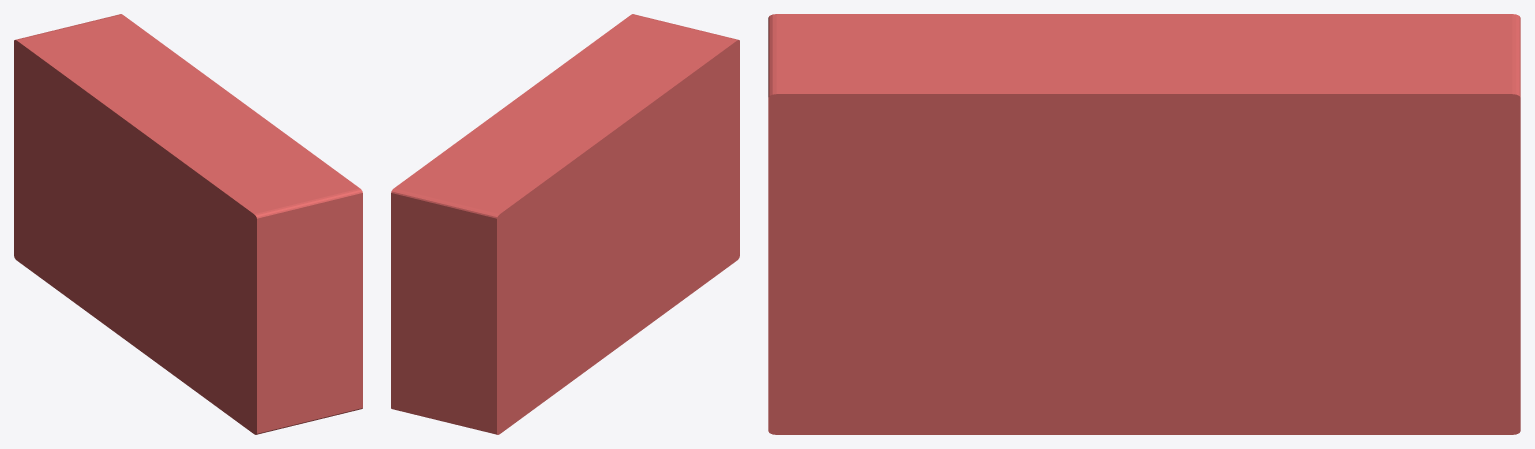
Rendered from Municion.fbx.
3 views of the same model, side by side, from view 1: azimuth 30°, elevation 25°; view 2: azimuth 150°, elevation 25°; view 3: azimuth 270°, elevation 25° (orthographic). The views are drawn at different scales.
Visible parts, largest first — view 1: MunicionRevolver; view 2: MunicionRevolver; view 3: MunicionRevolver.
Boxes of the visible parts, left/top/right/bottom form: MunicionRevolver: left=14, top=14, right=362, bottom=434; MunicionRevolver: left=391, top=14, right=739, bottom=434; MunicionRevolver: left=768, top=14, right=1520, bottom=434.
Size of the model in its own units: 2.52 by 5 by 10.
